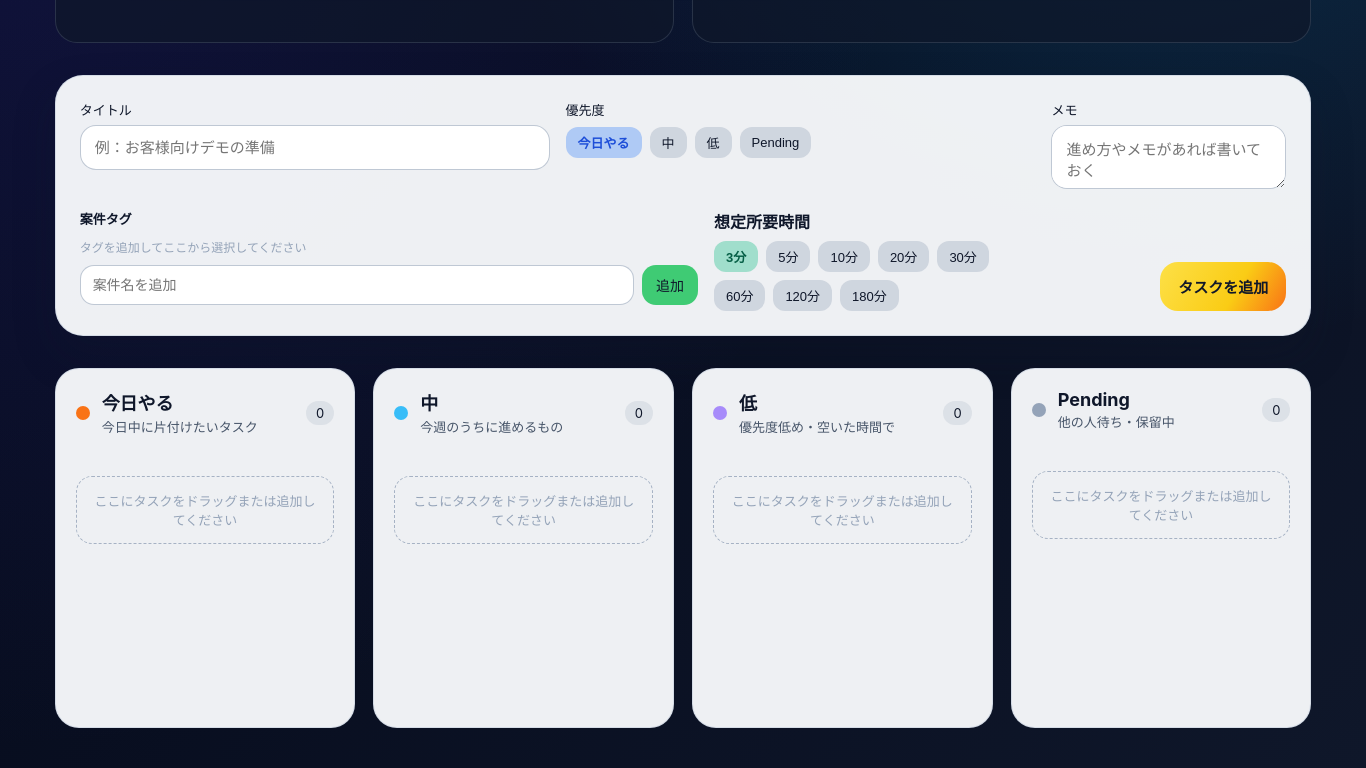
Test: edits priority label and description by double click
(page scrolled)
Double-click the heading "今日やる" at {"x": 138, "y": 404}, box [102,393,174,414]
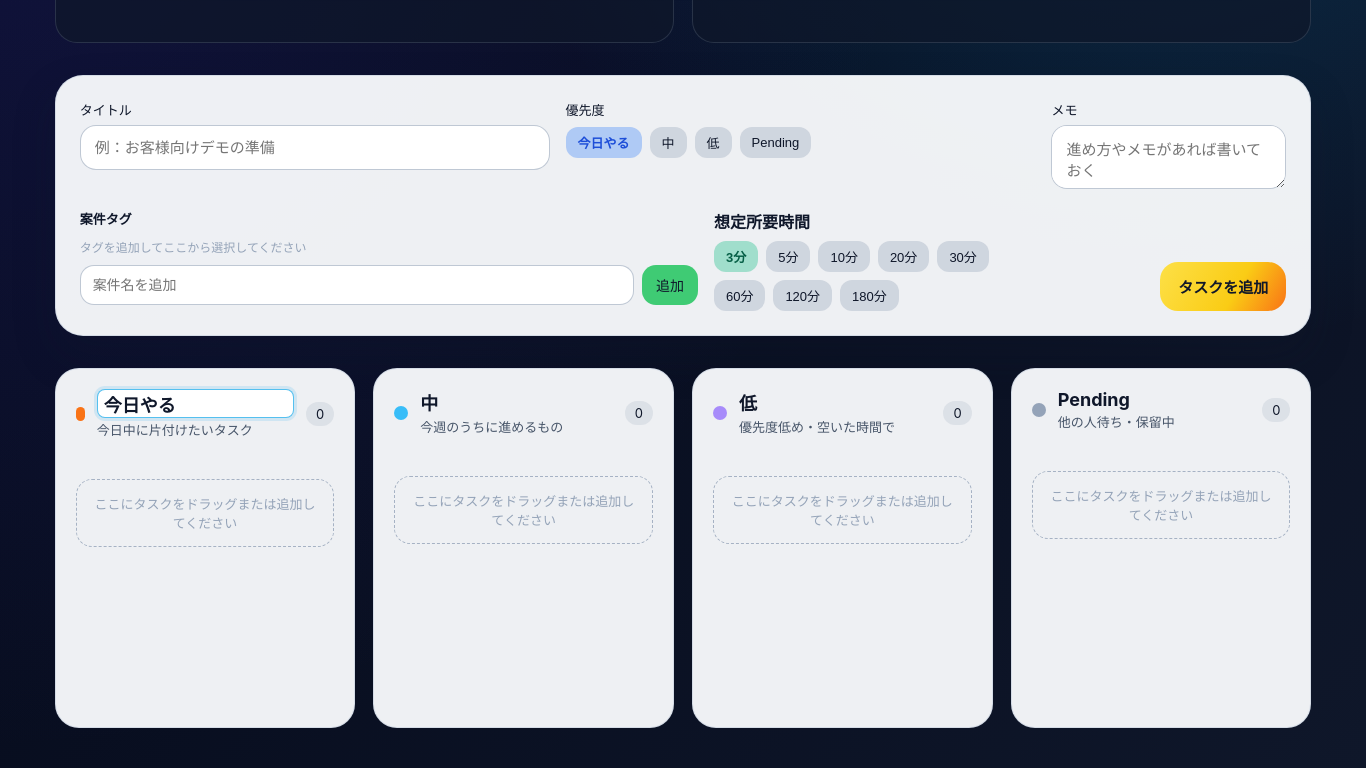
Replace the text in the field showing "今日やる" with "最優先" at {"x": 196, "y": 404}, box [97,389,294,418]
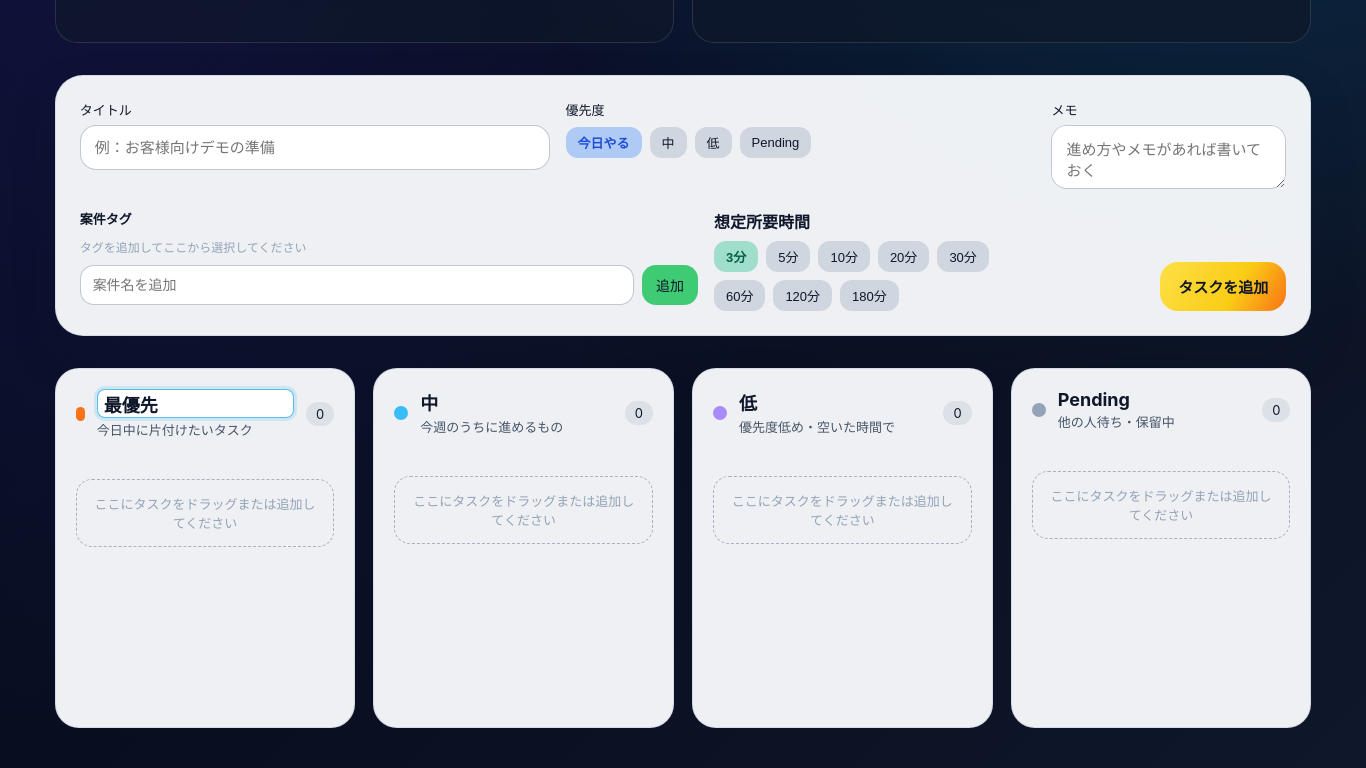
Press Enter in the field showing "今日やる", box [97,389,294,418]
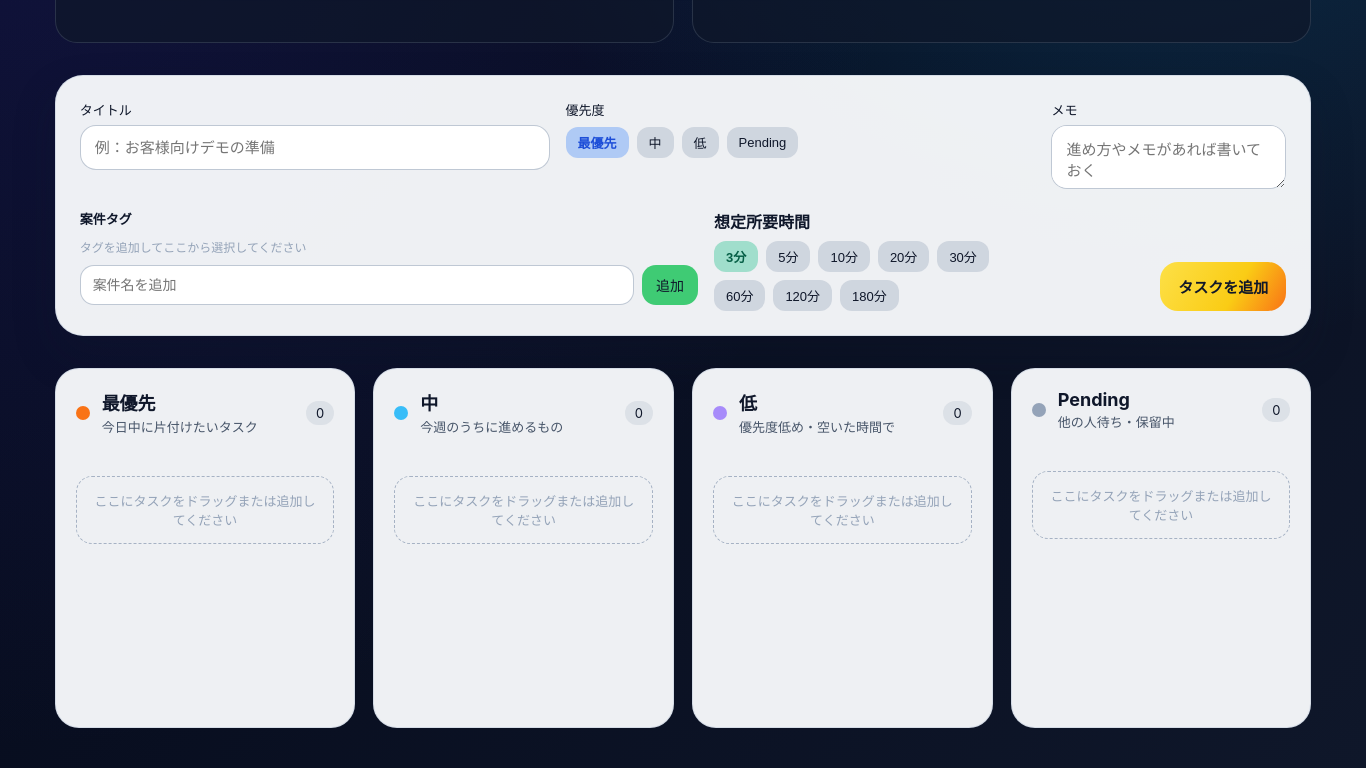
Expected: the number of buttons "最優先" is 2, [566,127,628,158]; [102,393,156,414]
Double-click the text "今日中に片付けたいタスク" at {"x": 180, "y": 426}, box [102,417,258,436]
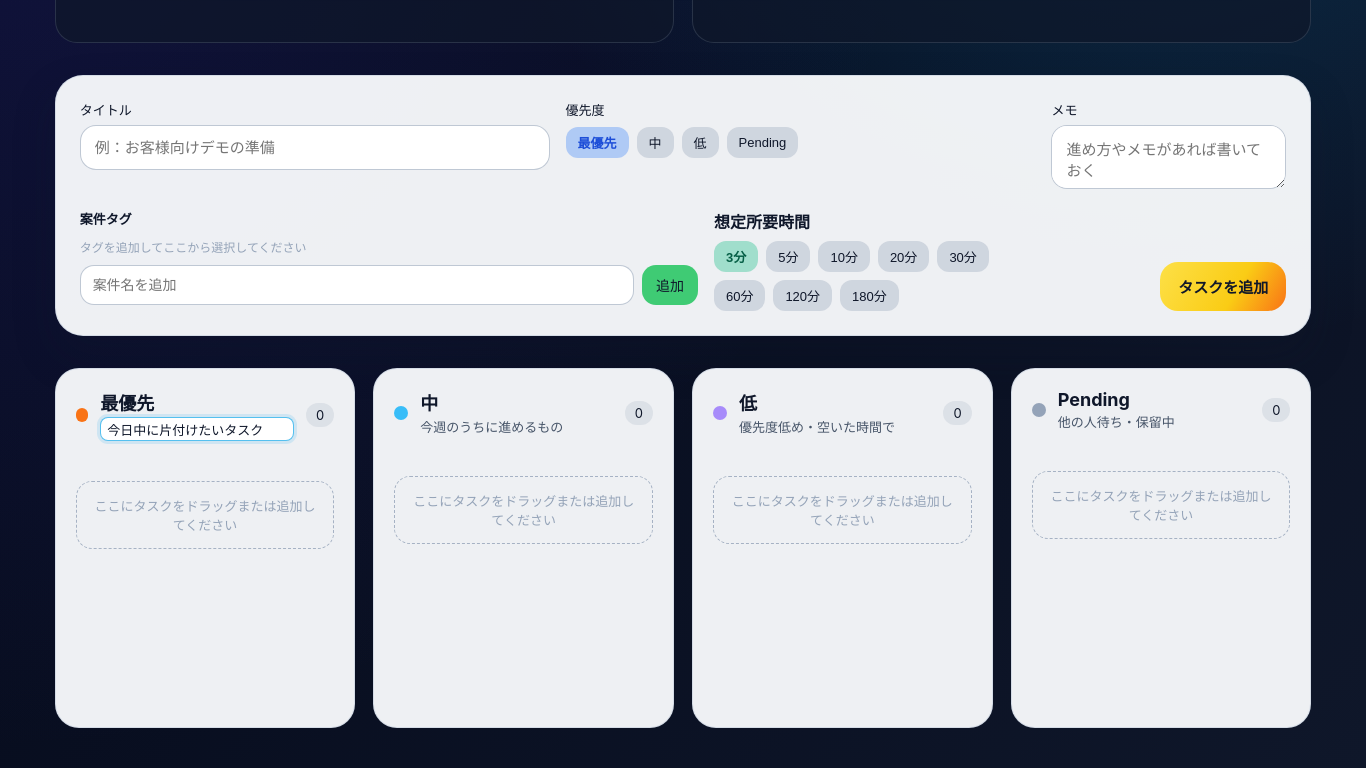
Replace the text in the field showing "今日中に片付けたいタスク" with "今日の最重要タスク" at {"x": 197, "y": 429}, box [100,417,294,441]
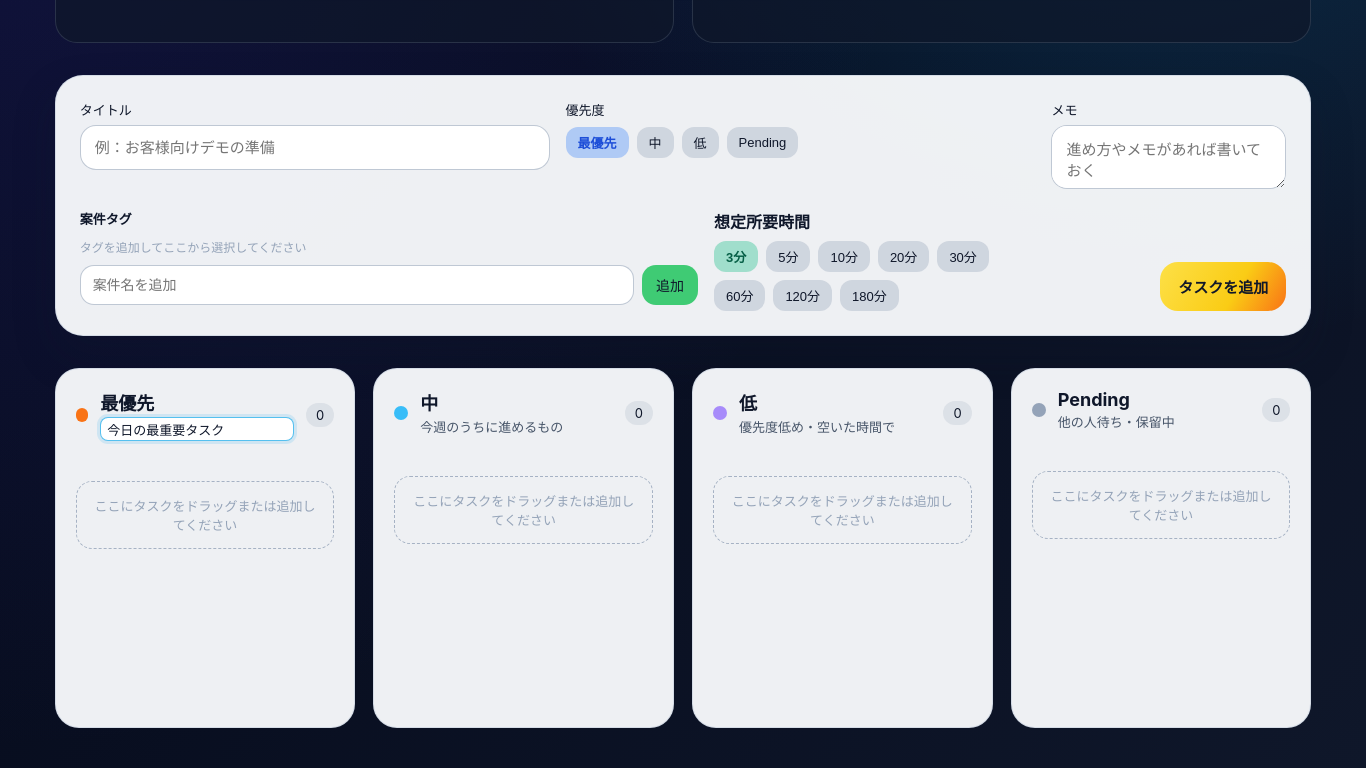
Press Enter in the field showing "今日中に片付けたいタスク", box [100,417,294,441]
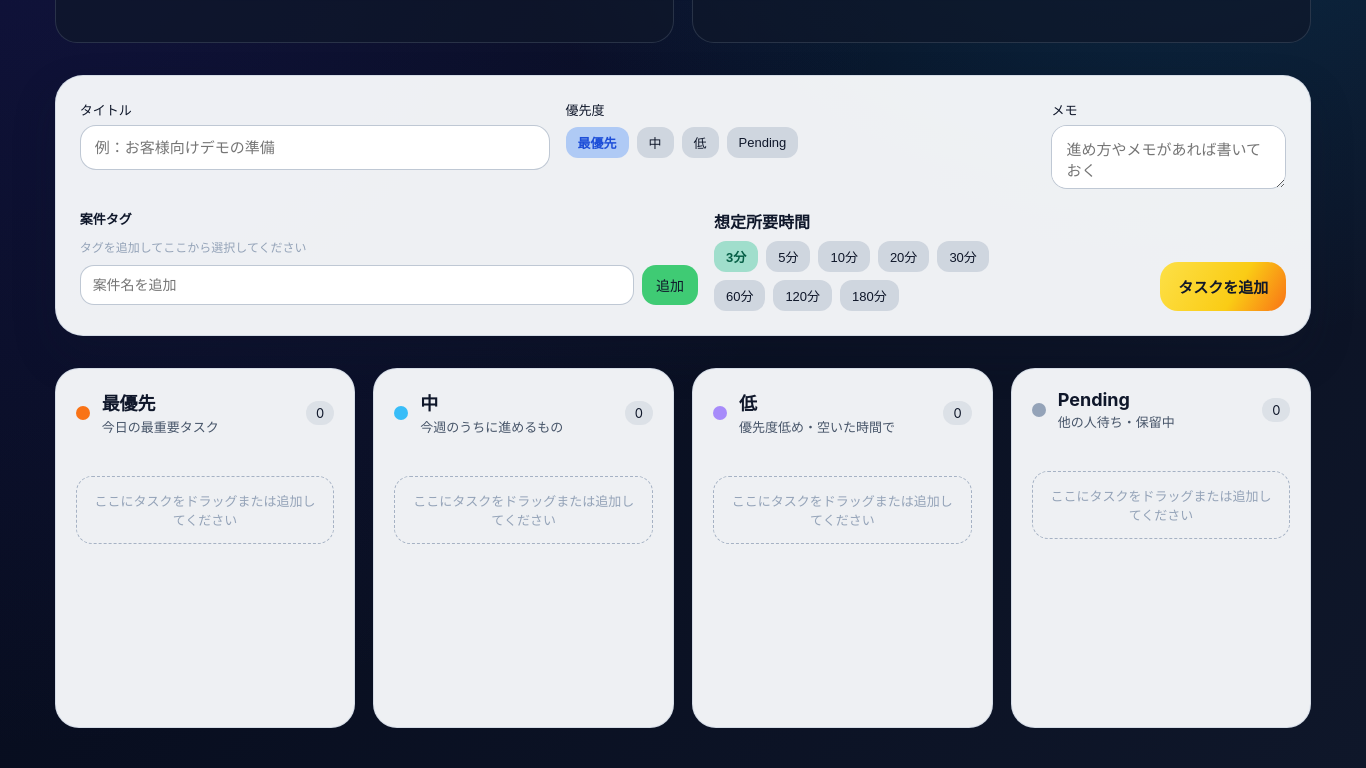
Expected: the text "今日の最重要タスク" is shown, [102,417,219,436]
